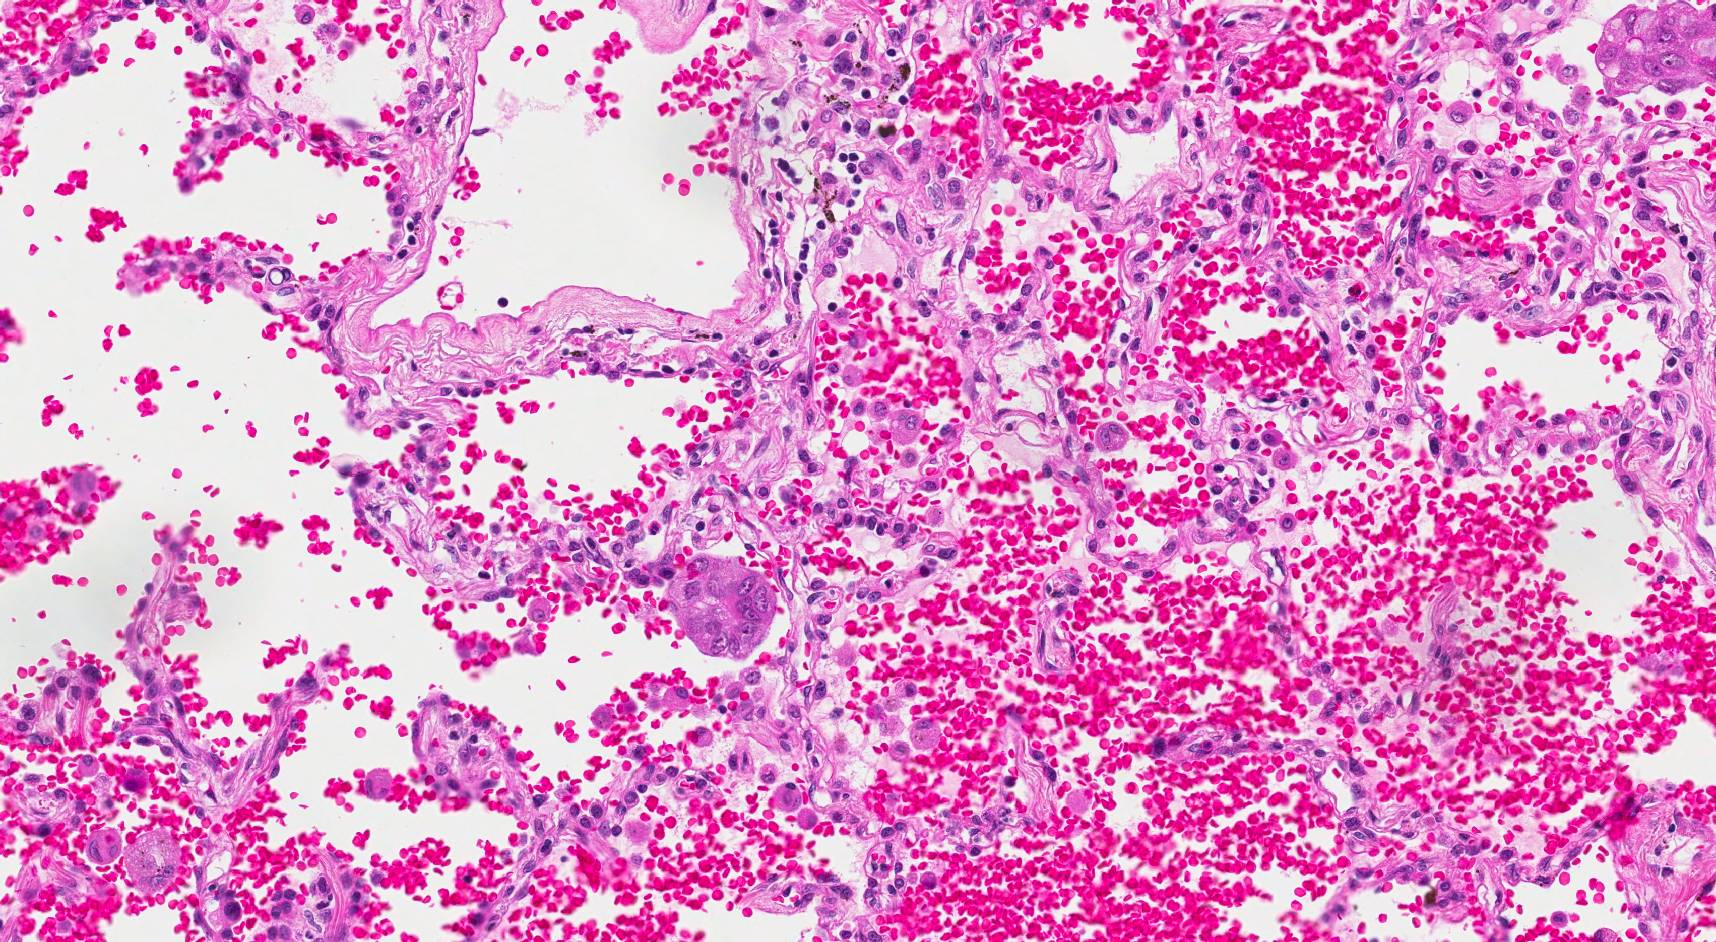stas: (667, 555, 776, 660), (1598, 2, 1716, 95)
